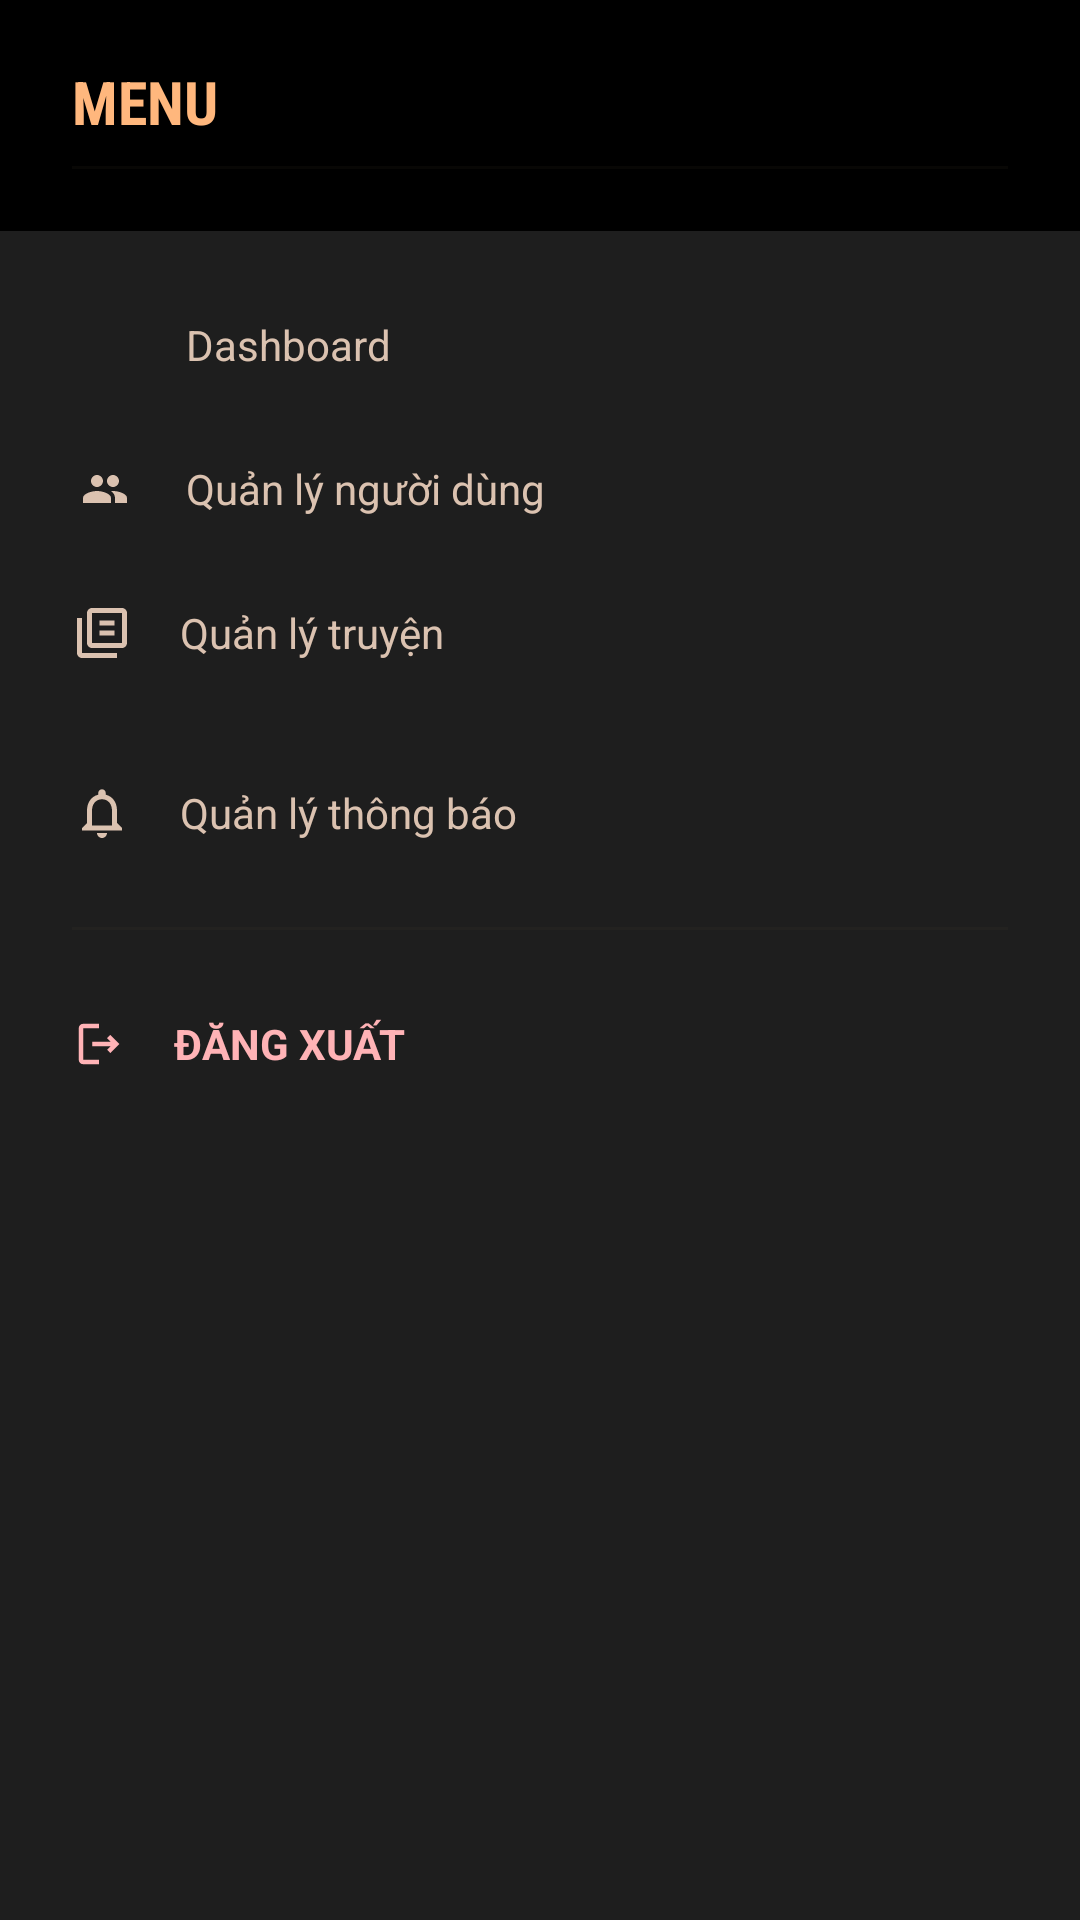

Named icons in this screenshot (1080*1920) and their bounding boxes, (x1, y1, x2, y2):
admin comics: (77, 608, 127, 658)
admin notifications: (82, 789, 122, 838)
admin users: (83, 475, 127, 503)
